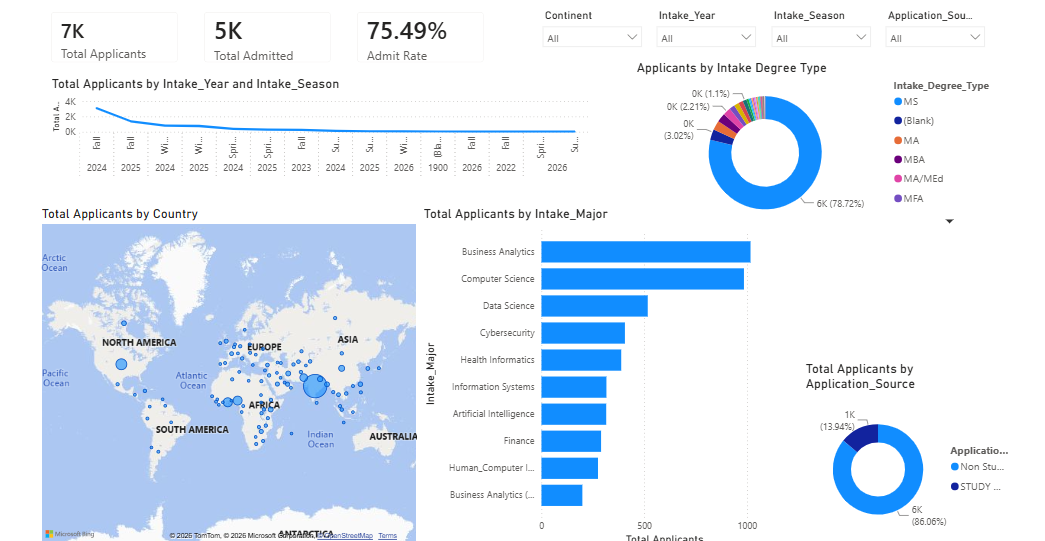

What the dashboard file says about the page in this screenshot:
{"tool":"powerbi","page":{"name":"Recruitment Overview","canvas":[1280,720],"ordinal":0},"visuals":[{"type":"cardVisual","fields":{"Data":["Applicant_Data.Total Applicants"]},"box":[0,0,200,100],"z":0},{"type":"cardVisual","fields":{"Data":["Applicant_Data.Total Admitted"]},"box":[200,0,200,100],"z":1000},{"type":"cardVisual","fields":{"Data":["Applicant_Data.Admit Rate"]},"box":[400,0,200,100],"z":2000},{"type":"azureMap","fields":{"Category":["Applicant_Data.Country"],"Size":["Applicant_Data.Total Applicants"]},"box":[0,270.4,499.9,449.4],"z":3000},{"type":"clusteredBarChart","fields":{"Category":["Applicant_Data.Intake_Major"],"Y":["Applicant_Data.Total Applicants"]},"box":[499.9,270.4,499.9,449.4],"z":4000},{"type":"donutChart","fields":{"Category":["Applicant_Data.Application_Source"],"Y":["Applicant_Data.Total Applicants"]},"box":[1000,474,280,246],"z":5000},{"type":"lineChart","fields":{"Y":["Applicant_Data.Total Applicants"],"Category":["Applicant_Data.Intake_Year","Applicant_Data.Intake_Season"]},"box":[12.6,100.2,712,142],"z":6000},{"type":"slicer","fields":{"Values":["Applicant_Data.Continent"]},"box":[650,7.8,150,60],"z":7000},{"type":"slicer","fields":{"Values":["Applicant_Data.Intake_Year"]},"box":[800,7.8,150,60],"z":8000},{"type":"slicer","fields":{"Values":["Applicant_Data.Intake_Season"]},"box":[950,7.8,150,60],"z":9000},{"type":"slicer","fields":{"Values":["Applicant_Data.Application_Source"]},"box":[1100,7.8,150,60],"z":10000},{"type":"donutChart","title":"Applicants by Intake Degree Type","fields":{"Category":["Applicant_Data.Intake_Degree_Type"],"Y":["Applicant_Data.Total Applicants"]},"box":[779,80,491,224],"z":11000}]}

Visuals, with their boxes on the page's 1280x720 design canvas (x1, y1, x2, y2). These are canvas units, not pixel positions in the 1045x541 screenshot, which may show the page scaled, cropped or inside an application window:
cardVisual - Applicant_Data.Total Applicants: bbox(0, 0, 200, 100)
cardVisual - Applicant_Data.Total Admitted: bbox(200, 0, 400, 100)
cardVisual - Applicant_Data.Admit Rate: bbox(400, 0, 600, 100)
azureMap - Applicant_Data.Country x Applicant_Data.Total Applicants: bbox(0, 270, 500, 720)
clusteredBarChart - Applicant_Data.Intake_Major x Applicant_Data.Total Applicants: bbox(500, 270, 1000, 720)
donutChart - Applicant_Data.Application_Source x Applicant_Data.Total Applicants: bbox(1000, 474, 1280, 720)
lineChart - Applicant_Data.Total Applicants x Applicant_Data.Intake_Year: bbox(13, 100, 725, 242)
slicer - Applicant_Data.Continent: bbox(650, 8, 800, 68)
slicer - Applicant_Data.Intake_Year: bbox(800, 8, 950, 68)
slicer - Applicant_Data.Intake_Season: bbox(950, 8, 1100, 68)
slicer - Applicant_Data.Application_Source: bbox(1100, 8, 1250, 68)
"Applicants by Intake Degree Type" donutChart: bbox(779, 80, 1270, 304)
